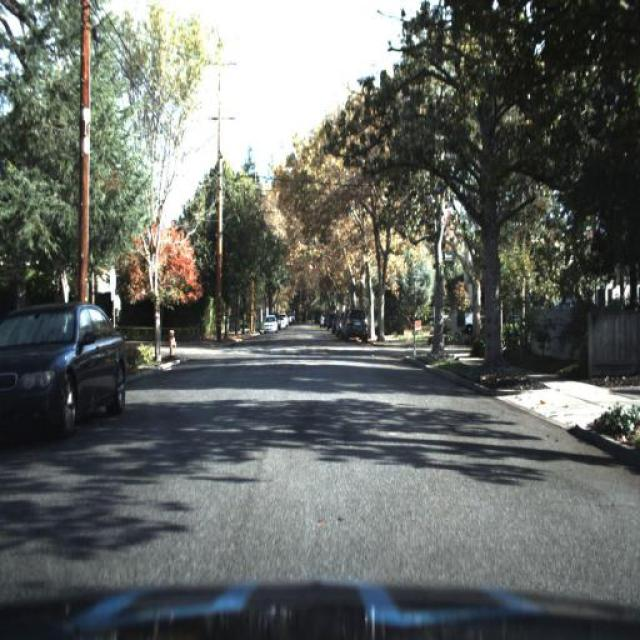car: (0, 298, 132, 436), (340, 307, 370, 343), (260, 312, 279, 336)
